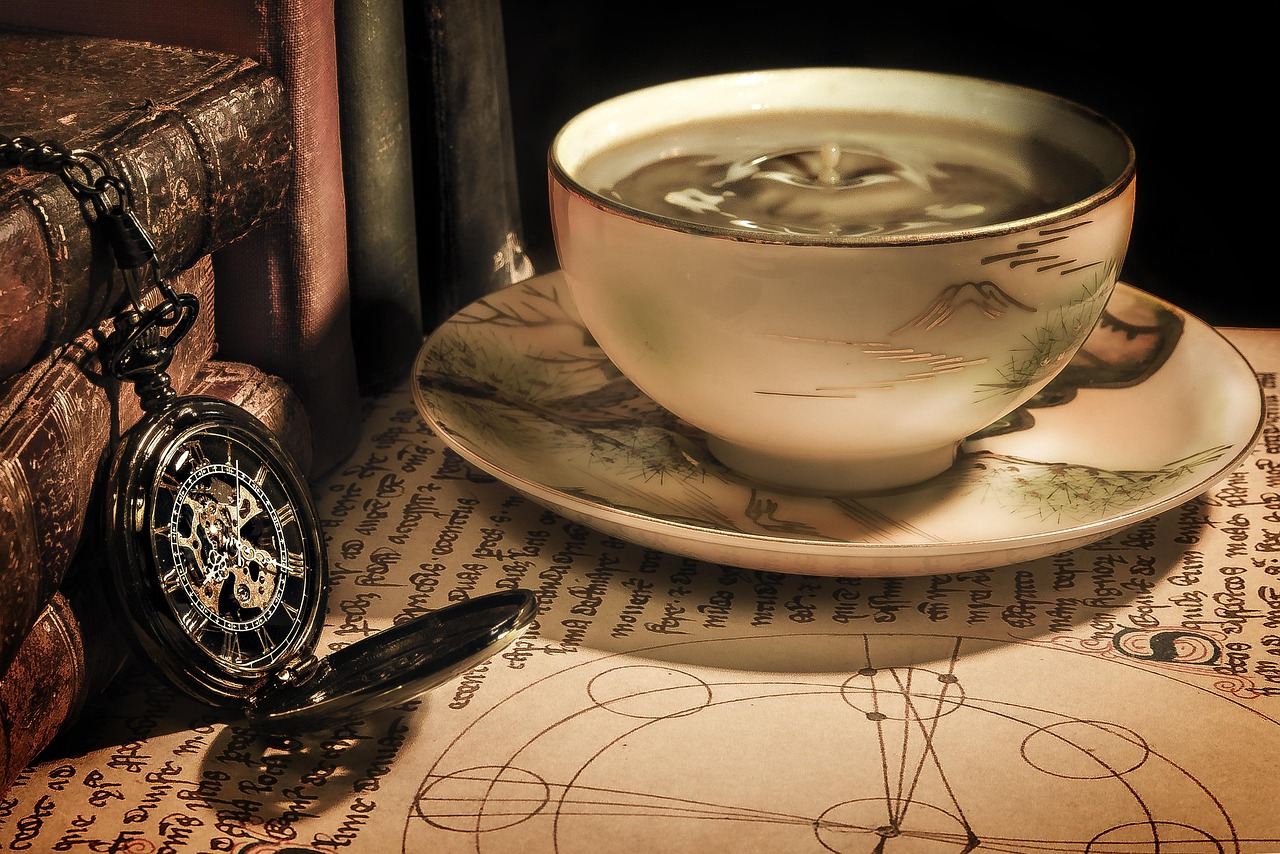mug: (448, 105, 1180, 592)
